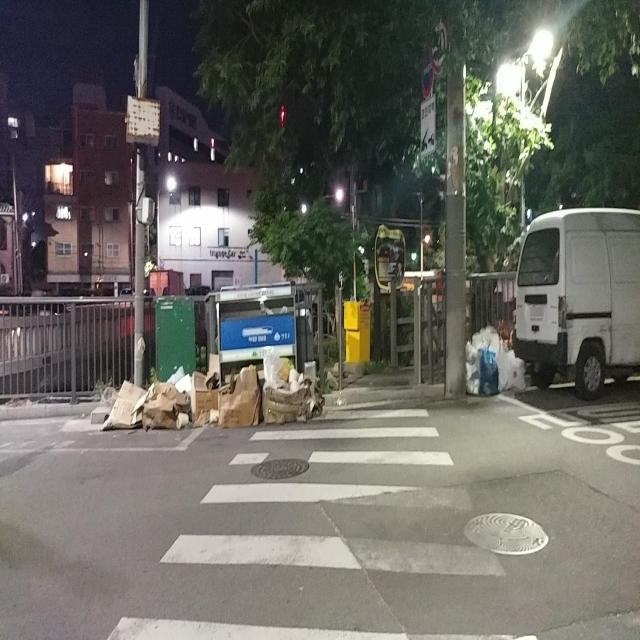횡단보도: (107, 407, 540, 640)
